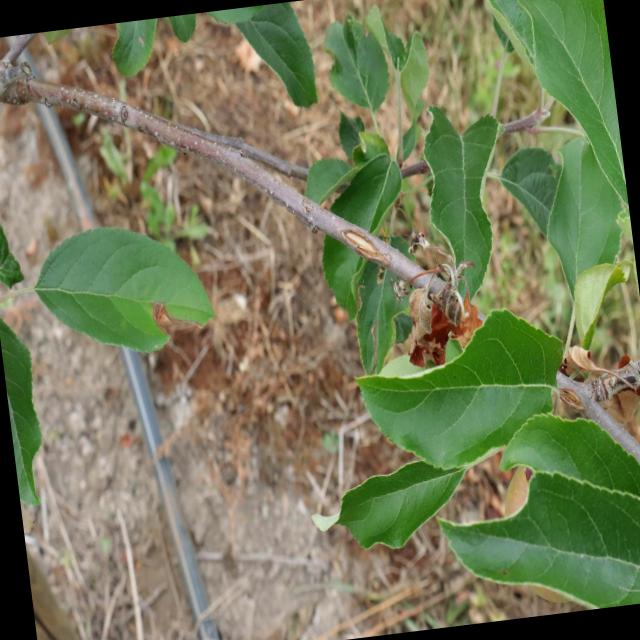-FireBlight-: (384, 268, 487, 357)
